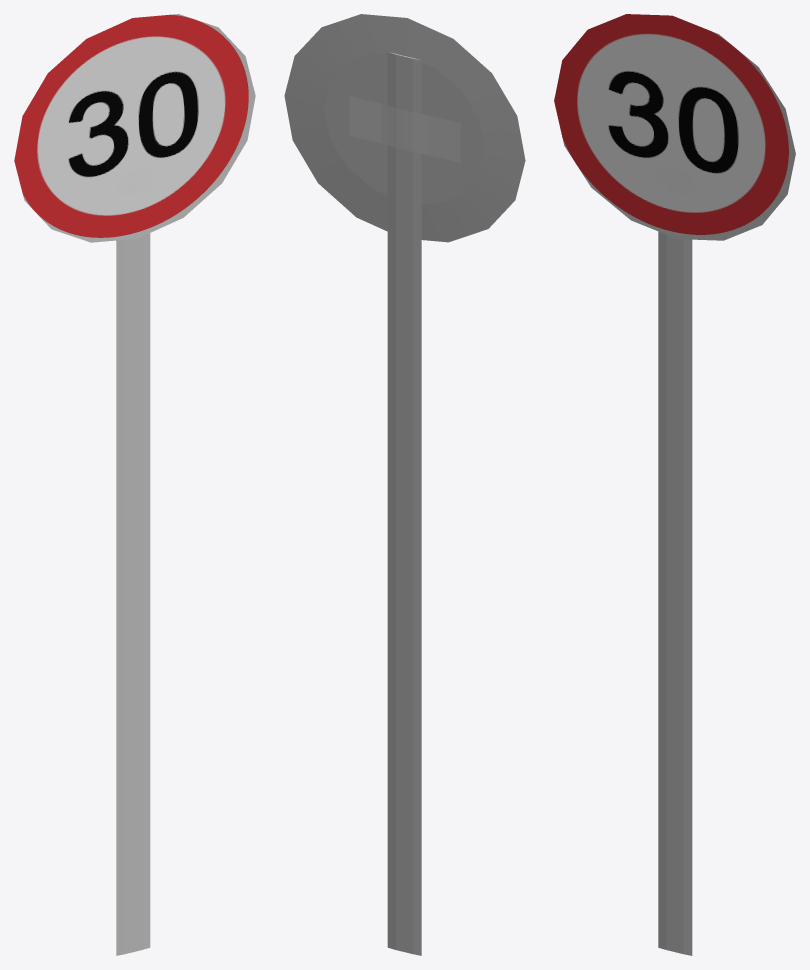
3 renders of one model, left to right at view 1: azimuth 30°, elevation 25°; view 2: azimuth 150°, elevation 25°; view 3: azimuth 330°, elevation 25°, orthographic.
Visible parts, largest first — view 1: Sign_Circle.005; view 2: Sign_Circle.005; view 3: Sign_Circle.005.
Boxes of the visible parts, x1=… form: Sign_Circle.005: x1=14, y1=14, x2=255, y2=955; Sign_Circle.005: x1=284, y1=14, x2=525, y2=955; Sign_Circle.005: x1=554, y1=14, x2=795, y2=955.
Bounding box in the file's own units: 0.6353 × 0.00621 × 2.35.
Materials: 3 (1 with a texture image).
